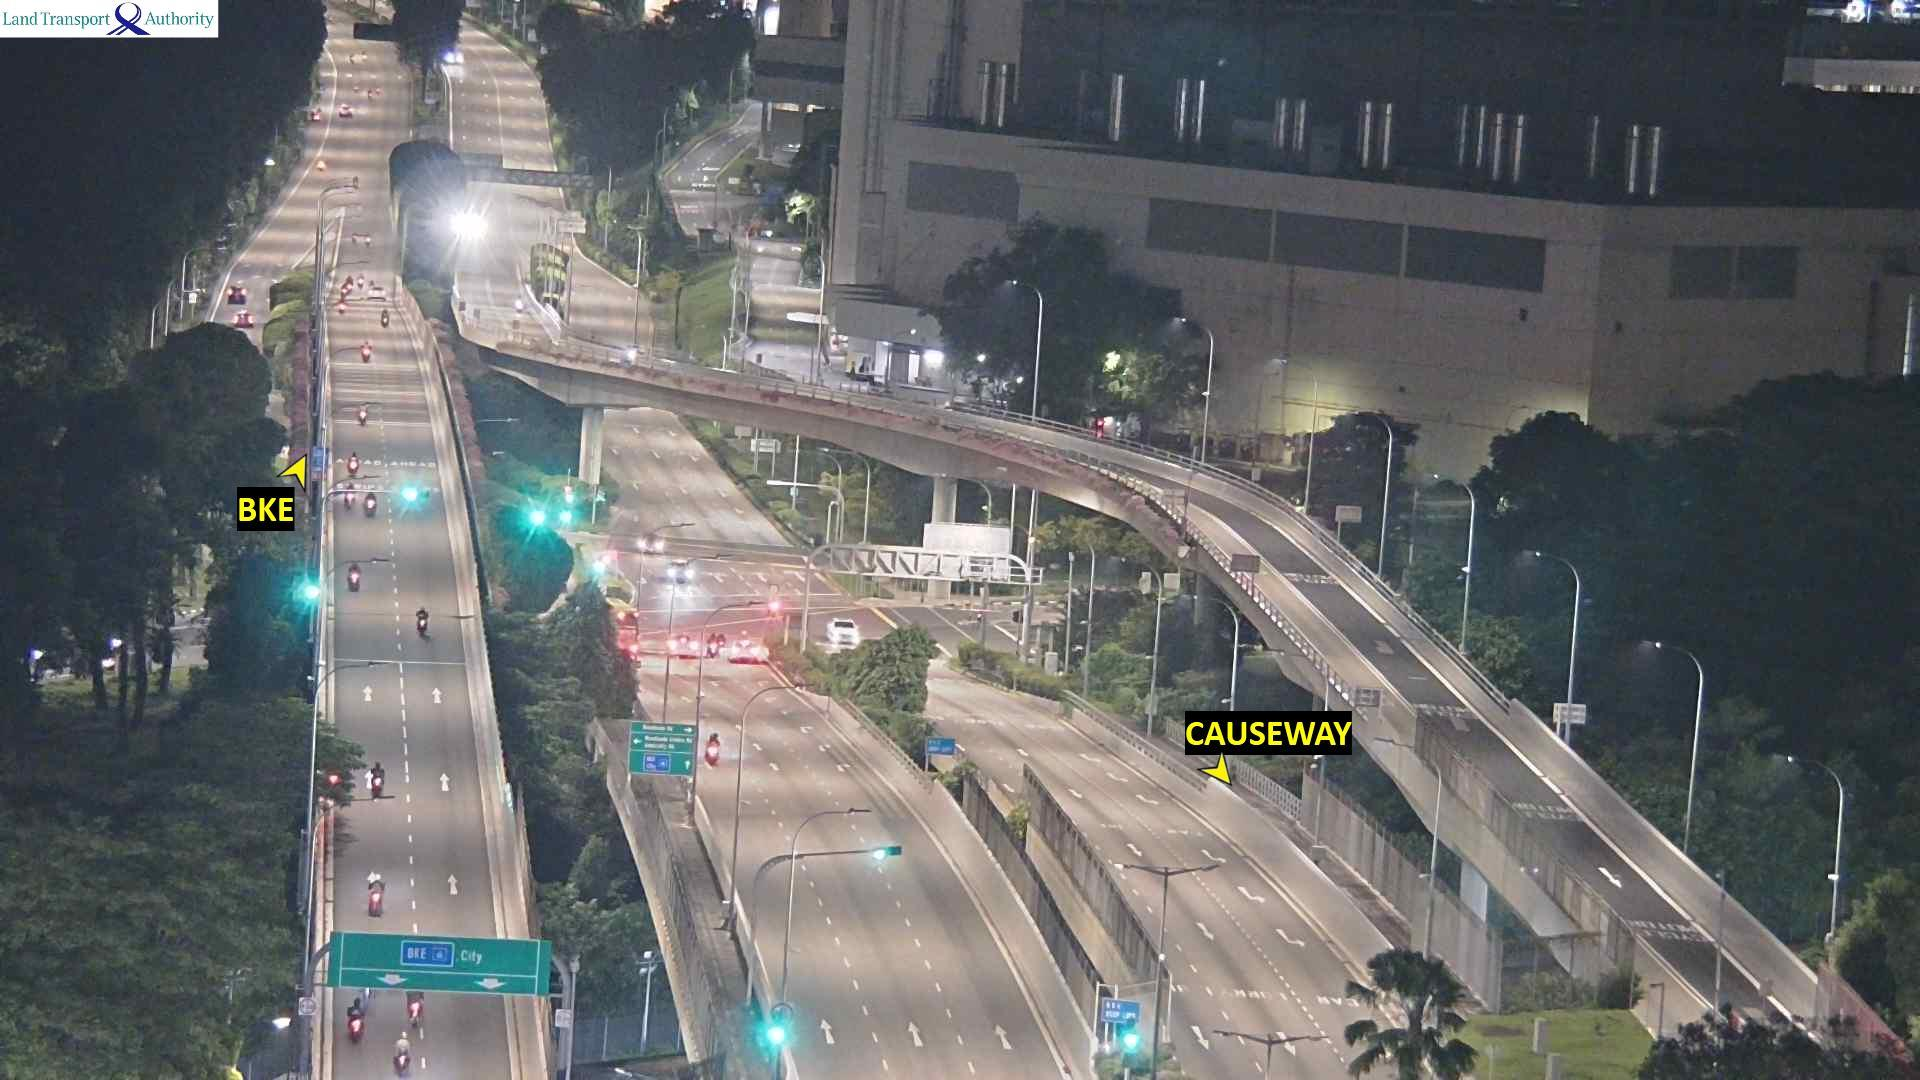vehicle-causeway-johor: (517, 295, 522, 313)
vehicle-causeway-singapore: (719, 644, 762, 661), (367, 872, 384, 914), (671, 638, 702, 661), (348, 998, 364, 1035), (397, 1035, 410, 1079), (407, 992, 423, 1023), (705, 640, 724, 663), (707, 728, 719, 765), (347, 570, 363, 589), (373, 767, 381, 800), (356, 406, 372, 422), (368, 287, 386, 299), (419, 611, 427, 637), (345, 484, 353, 509), (348, 450, 357, 469), (363, 340, 371, 361), (365, 493, 373, 513), (382, 305, 388, 326), (339, 297, 345, 311)
